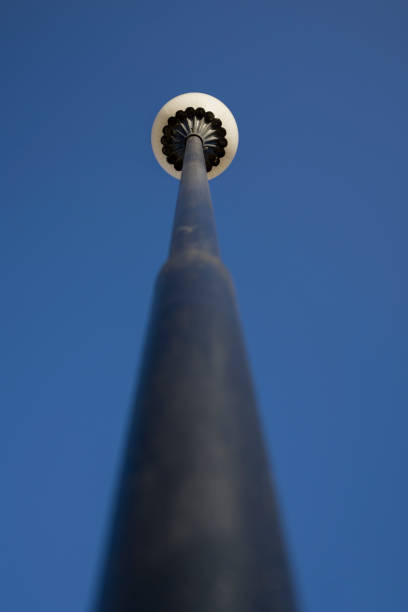light_pole: (90, 159, 308, 612)
